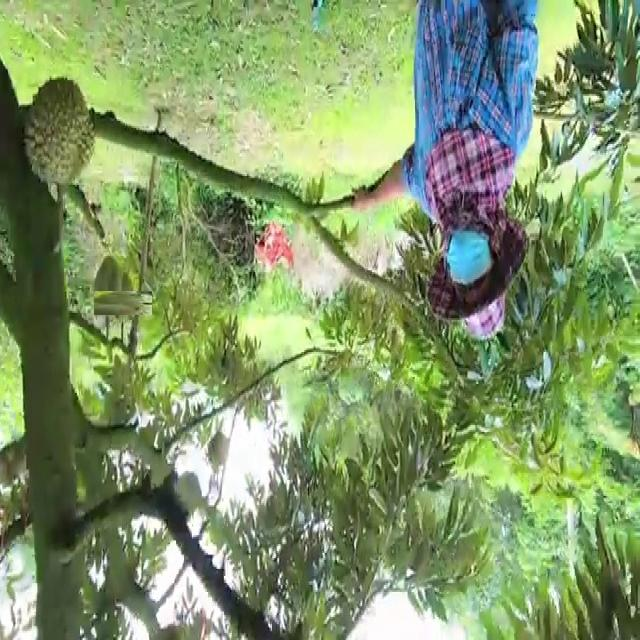durian: (22, 76, 97, 202), (89, 256, 125, 328), (102, 282, 144, 323)
